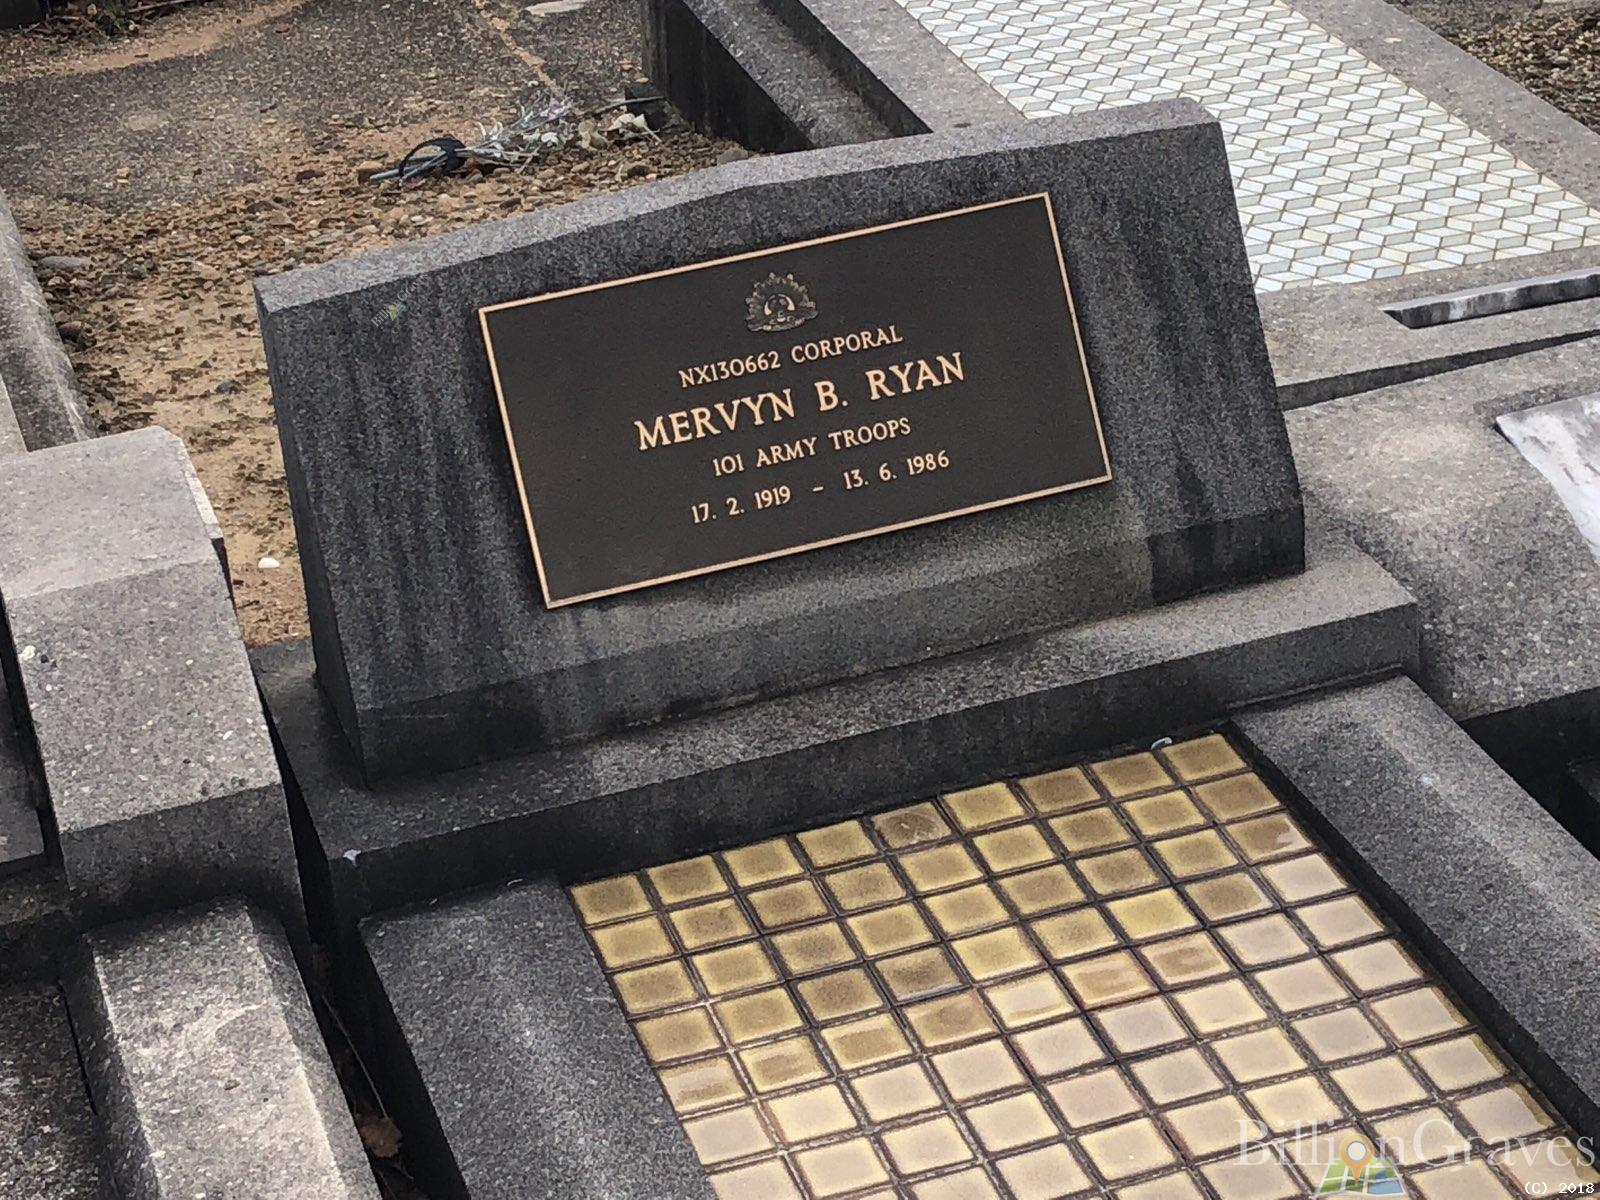vault: (249, 92, 1600, 1199)
